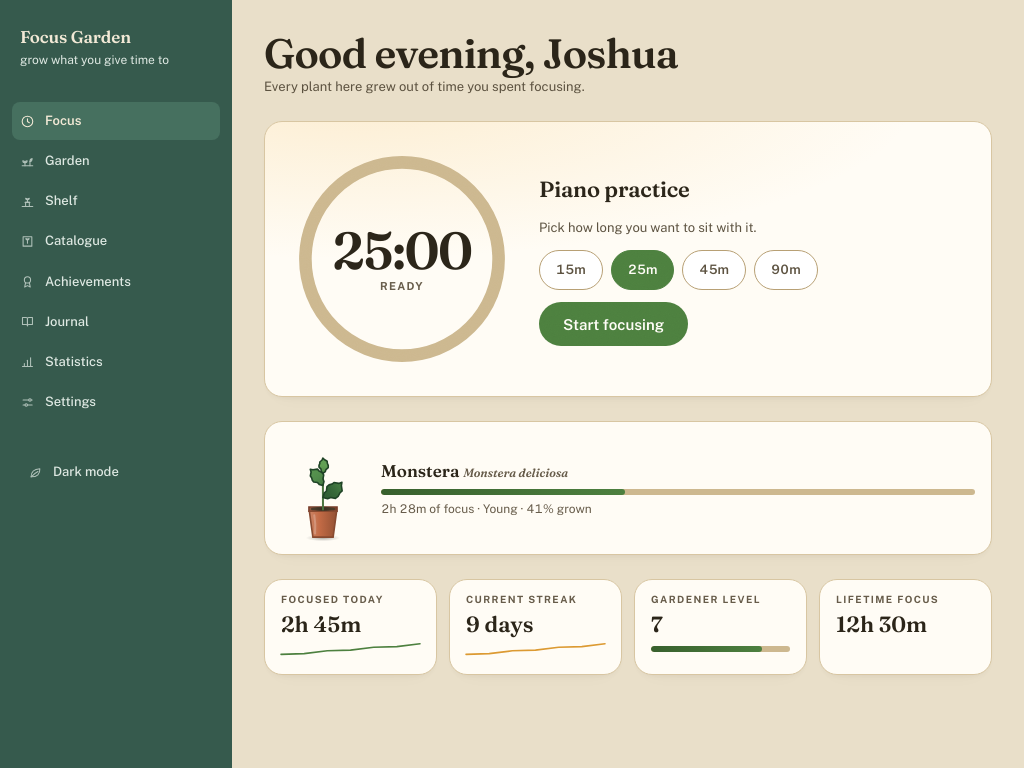
Test: discarding a session › asks first, as the setting says it will
Click the button "Start focusing": (614, 324) x1=539 y1=302 x2=688 y2=346
Wait 60000 ms
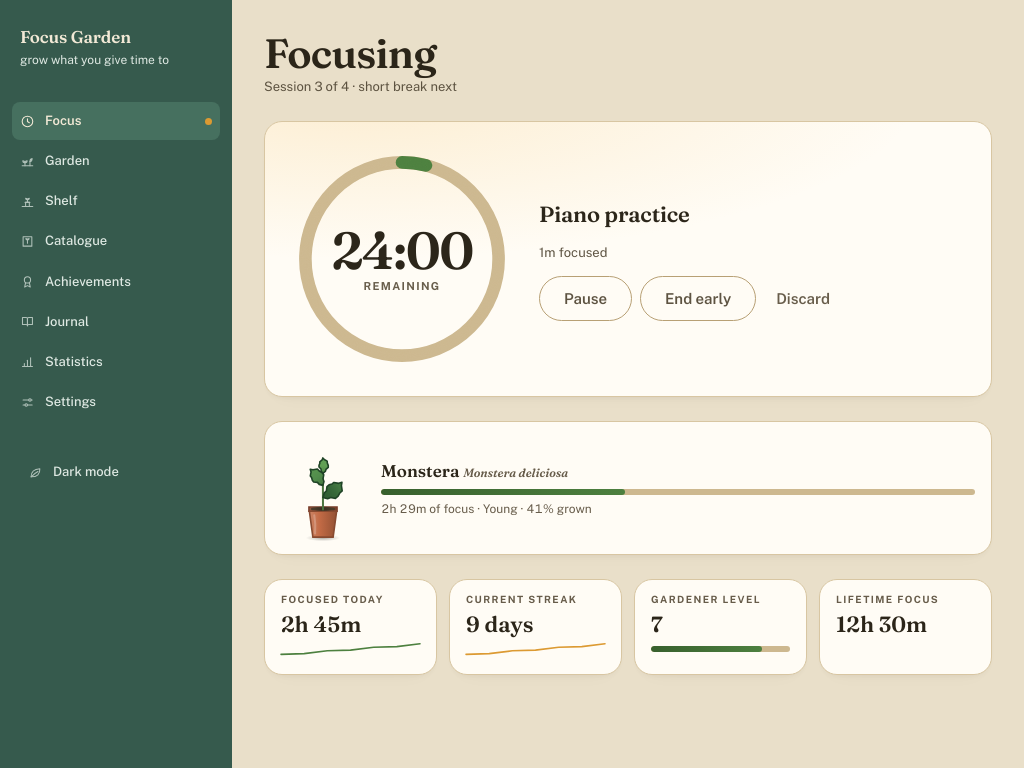
Click the button "Discard": (803, 298) x1=764 y1=276 x2=842 y2=321
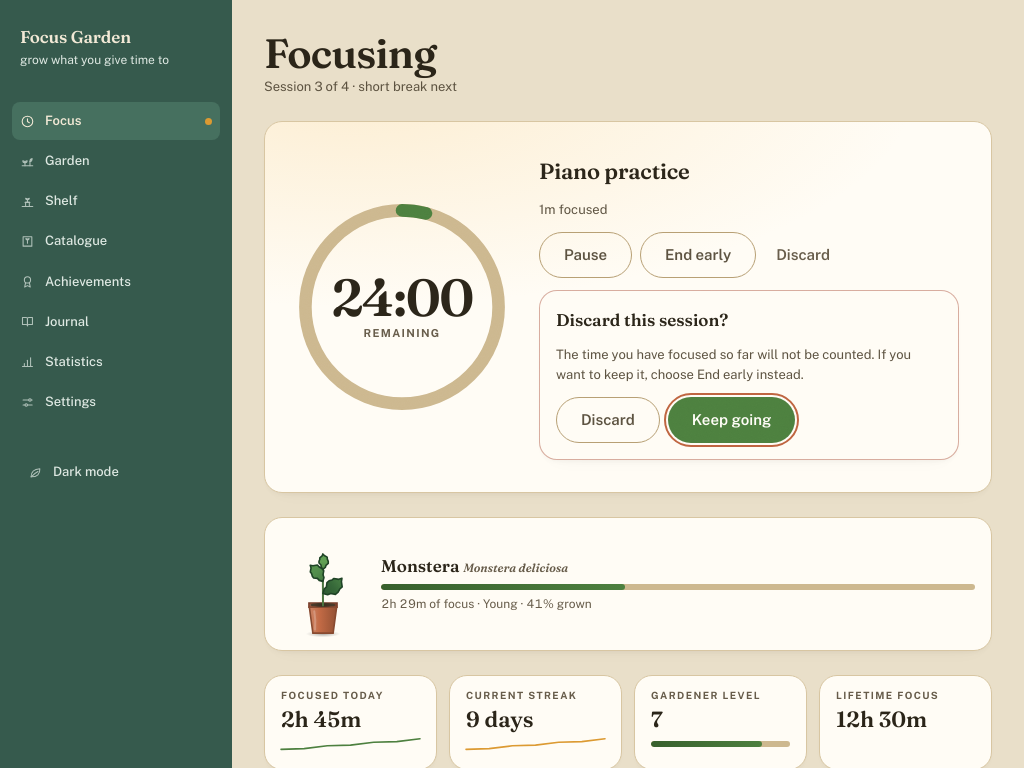
Check: the button "Pause" is shown, box x1=539 y1=232 x2=632 y2=278
Check: the dialog "Discard this session?" is shown, box x1=539 y1=290 x2=959 y2=460
